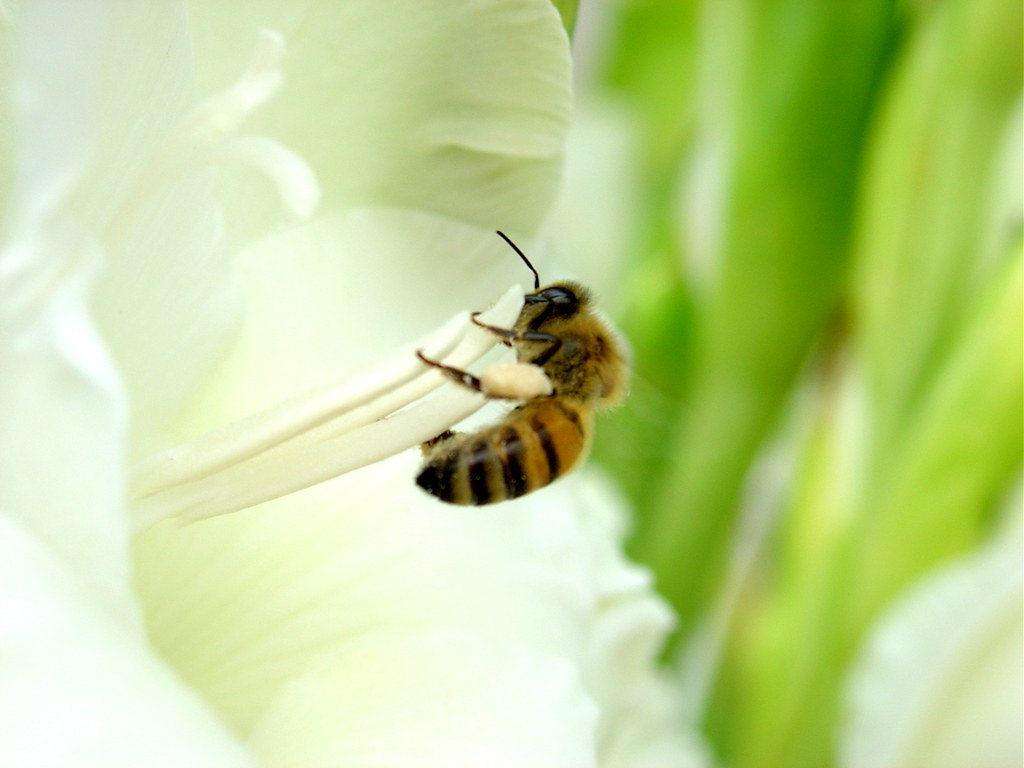bee: (413, 227, 652, 506)
